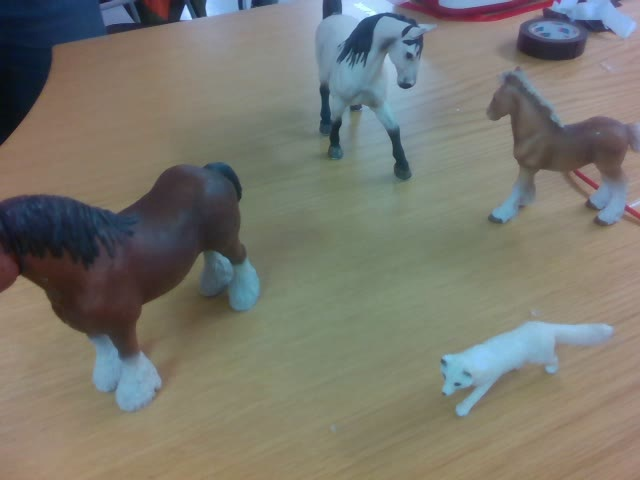toy: (487, 65, 640, 226), (302, 1, 432, 178), (440, 318, 614, 416)
